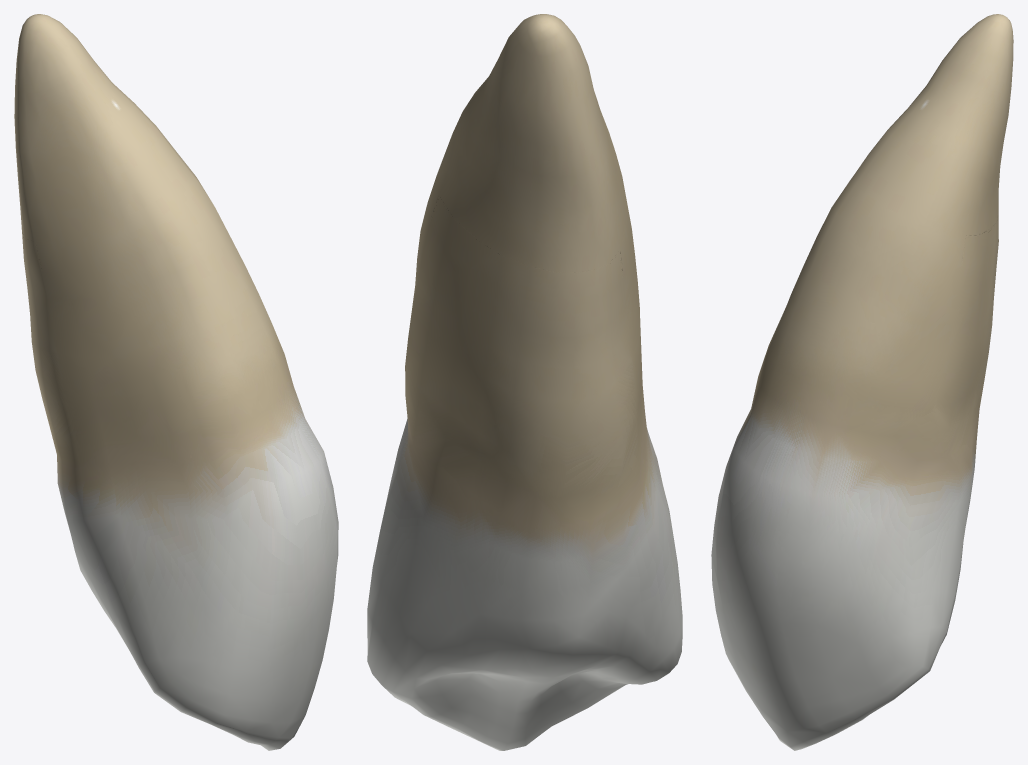
File: tooth-23.glb
3 renders of one model, left to right at view 1: azimuth 30°, elevation 25°; view 2: azimuth 150°, elevation 25°; view 3: azimuth 270°, elevation 25°, orthographic. The views are drawn at different scales.
Visible parts, largest first — view 1: ZBrushPolyMesh3D2_blinn15_0; view 2: ZBrushPolyMesh3D2_blinn15_0; view 3: ZBrushPolyMesh3D2_blinn15_0.
Part boxes in pixels (<box>): ZBrushPolyMesh3D2_blinn15_0: <box>14,14,338,750</box>; ZBrushPolyMesh3D2_blinn15_0: <box>367,14,682,750</box>; ZBrushPolyMesh3D2_blinn15_0: <box>711,14,1013,750</box>.
Size of the model in its own units: 0.2599 by 0.7526 by 0.3078.
Materials: 1 (1 with a texture image).
